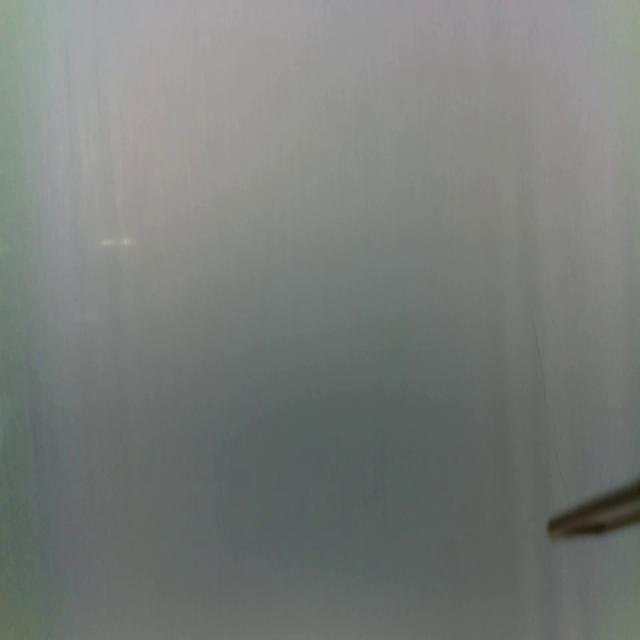crease: (526, 299, 568, 493)
